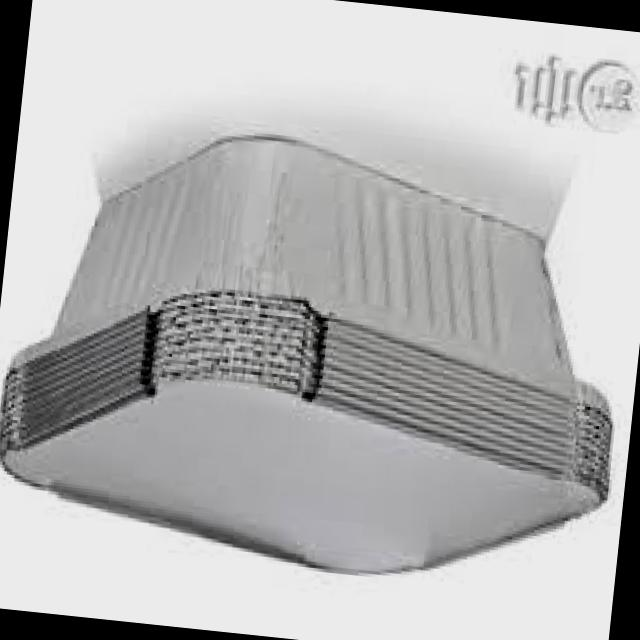kim_loai: (0, 139, 615, 572)
